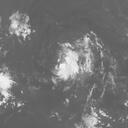cyclone: (52, 31, 100, 83)
